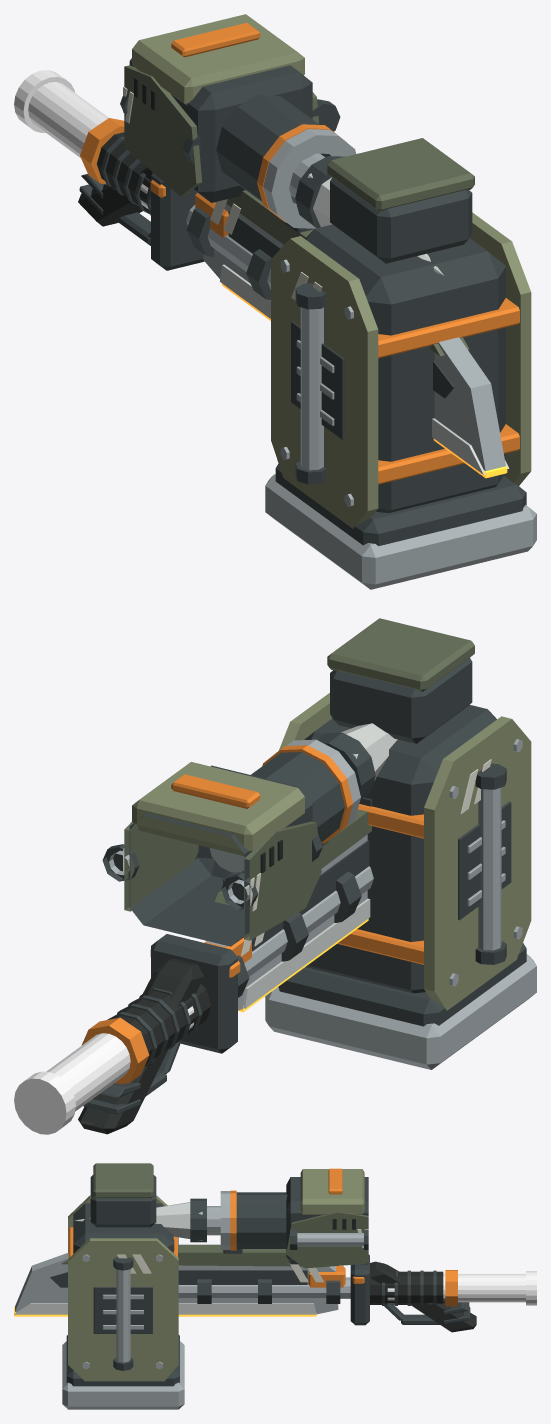
Rendered from bastion-melee.glb.
The picture shows the model from 3 angles, top to bottom: view 1: azimuth 30°, elevation 25°; view 2: azimuth 150°, elevation 25°; view 3: azimuth 270°, elevation 25°; orthographic projection. The views are drawn at different scales.
Parts seen in each view (by area): view 1: breaker__weapon_frame_graphite, breaker__weapon_armor_olive, breaker__weapon_steel_brushed, piledriver__weapon_frame_graphite, piledriver__weapon_armor_olive, breaker__weapon_armor_dark_olive, breaker__weapon_safety_amber, cleaver__weapon_steel_brushed, piledriver__weapon_armor_dark_olive, cleaver__weapon_frame_graphite, piledriver__weapon_steel_brushed, Bastion extended hilt.001 (+9 smaller); view 2: breaker__weapon_frame_graphite, breaker__weapon_armor_olive, breaker__weapon_steel_brushed, piledriver__weapon_frame_graphite, piledriver__weapon_armor_dark_olive, piledriver__weapon_armor_olive, cleaver__weapon_frame_graphite, breaker__weapon_armor_dark_olive, breaker__weapon_safety_amber, piledriver__weapon_grip_rubber, Bastion extended hilt.001, Bastion hilt ferrule.002 (+8 smaller); view 3: breaker__weapon_armor_olive, breaker__weapon_frame_graphite, breaker__weapon_steel_brushed, piledriver__weapon_frame_graphite, cleaver__weapon_steel_brushed, cleaver__weapon_frame_graphite, piledriver__weapon_armor_dark_olive, piledriver__weapon_armor_olive, cleaver__weapon_steel_cutting_edge, breaker__weapon_armor_dark_olive, cleaver__weapon_armor_dark_olive, Bastion extended hilt.001 (+12 smaller).
Part boxes in pixels (box(x1,y1,x2,y2)): breaker__weapon_frame_graphite: box(101, 136, 526, 546); breaker__weapon_armor_olive: box(271, 212, 531, 528); breaker__weapon_steel_brushed: box(186, 204, 536, 589); piledriver__weapon_frame_graphite: box(79, 58, 340, 245); piledriver__weapon_armor_olive: box(132, 14, 304, 105); breaker__weapon_armor_dark_olive: box(327, 138, 474, 211); breaker__weapon_safety_amber: box(80, 118, 519, 484); cleaver__weapon_steel_brushed: box(203, 202, 505, 470); piledriver__weapon_armor_dark_olive: box(124, 65, 318, 196); cleaver__weapon_frame_graphite: box(151, 173, 454, 398); piledriver__weapon_steel_brushed: box(263, 129, 356, 228); Bastion extended hilt.001: box(28, 82, 108, 158); breaker__weapon_frame_graphite: box(107, 658, 526, 1065); breaker__weapon_armor_olive: box(279, 693, 531, 1010); breaker__weapon_steel_brushed: box(244, 739, 536, 1069); piledriver__weapon_frame_graphite: box(83, 752, 344, 1114); piledriver__weapon_armor_dark_olive: box(124, 821, 321, 940); piledriver__weapon_armor_olive: box(132, 762, 304, 856); cleaver__weapon_frame_graphite: box(151, 797, 372, 1053); breaker__weapon_armor_dark_olive: box(327, 618, 474, 691); breaker__weapon_safety_amber: box(81, 804, 423, 1084); piledriver__weapon_grip_rubber: box(78, 839, 282, 1134); Bastion extended hilt.001: box(46, 1033, 130, 1111); Bastion hilt ferrule.002: box(14, 1071, 75, 1134); breaker__weapon_armor_olive: box(68, 1195, 178, 1381); breaker__weapon_frame_graphite: box(66, 1175, 436, 1386); breaker__weapon_steel_brushed: box(62, 1254, 350, 1409); piledriver__weapon_frame_graphite: box(236, 1177, 470, 1324); cleaver__weapon_steel_brushed: box(15, 1252, 338, 1314); cleaver__weapon_frame_graphite: box(50, 1239, 369, 1325); piledriver__weapon_armor_dark_olive: box(286, 1212, 368, 1268); piledriver__weapon_armor_olive: box(300, 1169, 364, 1214); cleaver__weapon_steel_cutting_edge: box(14, 1303, 316, 1314); breaker__weapon_armor_dark_olive: box(93, 1163, 153, 1198); cleaver__weapon_armor_dark_olive: box(61, 1244, 301, 1266); Bastion extended hilt.001: box(443, 1274, 525, 1302).
Size of the model in its own units: 1.07 by 1.82 by 4.06.
